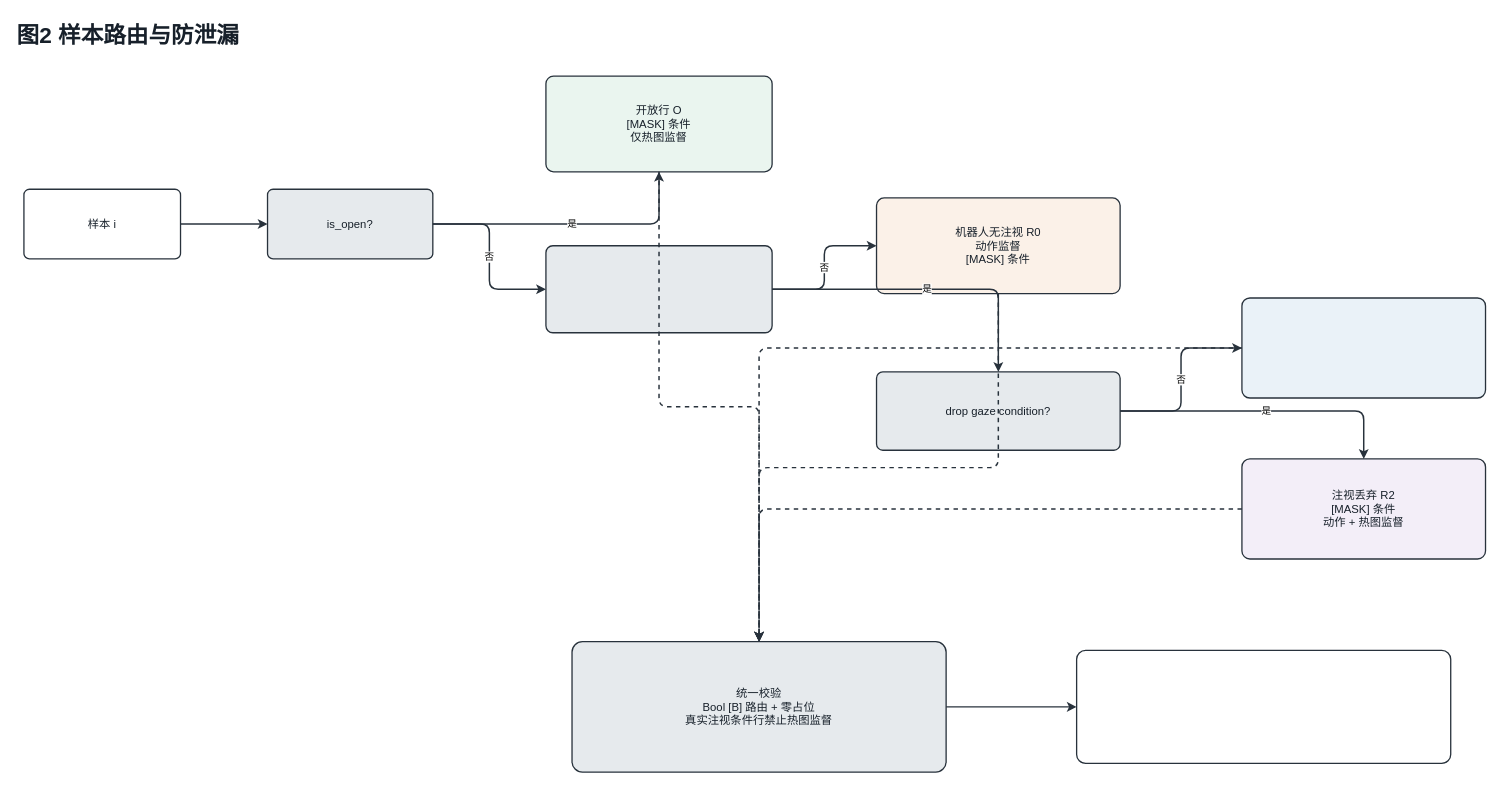
The diagram is 1501 pixels wide and 787 high, and some of its shapes have lost their labels. Here are the shapes that lost their labels. From the top down, the box of each, then its label:
(545, 245, 772, 333): 机器人行 has_gaze_label?
(1241, 297, 1486, 398): 真实注视 R1 真实注视作条件 仅动作监督
(1076, 649, 1451, 764): m_i^a=(1-s_i)a_i m_i^h=h_i g_i c_i=(1-s_i)g_i(1-d_i)
